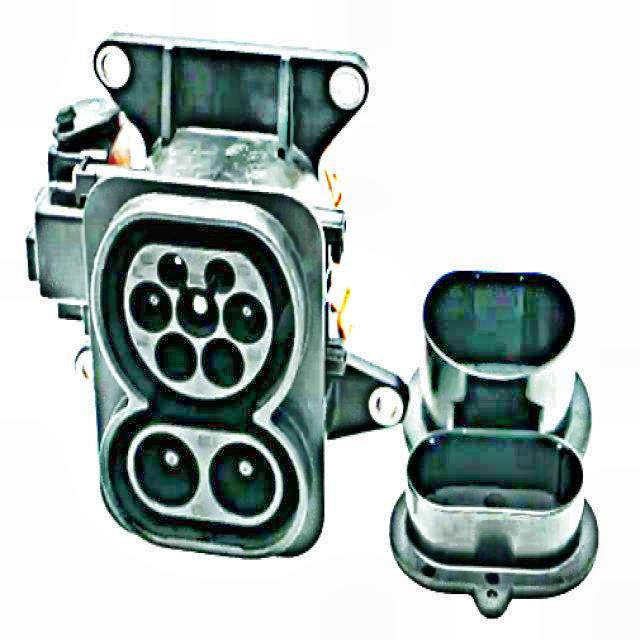inlet: (125, 244, 273, 398)
inlet-above-left: (158, 252, 188, 289)
inlet-above-right: (203, 258, 235, 294)
inlet-below-left: (154, 333, 197, 383)
inlet-below-right: (201, 337, 245, 388)
inlet-center: (176, 287, 219, 339)
inlet-center-left: (129, 279, 172, 333)
inlet-center-right: (222, 292, 267, 345)
